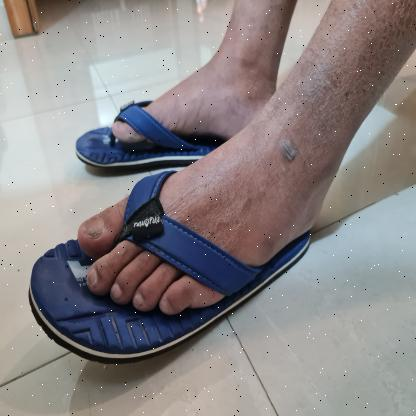leg: (75, 0, 416, 324), (106, 0, 295, 152)
